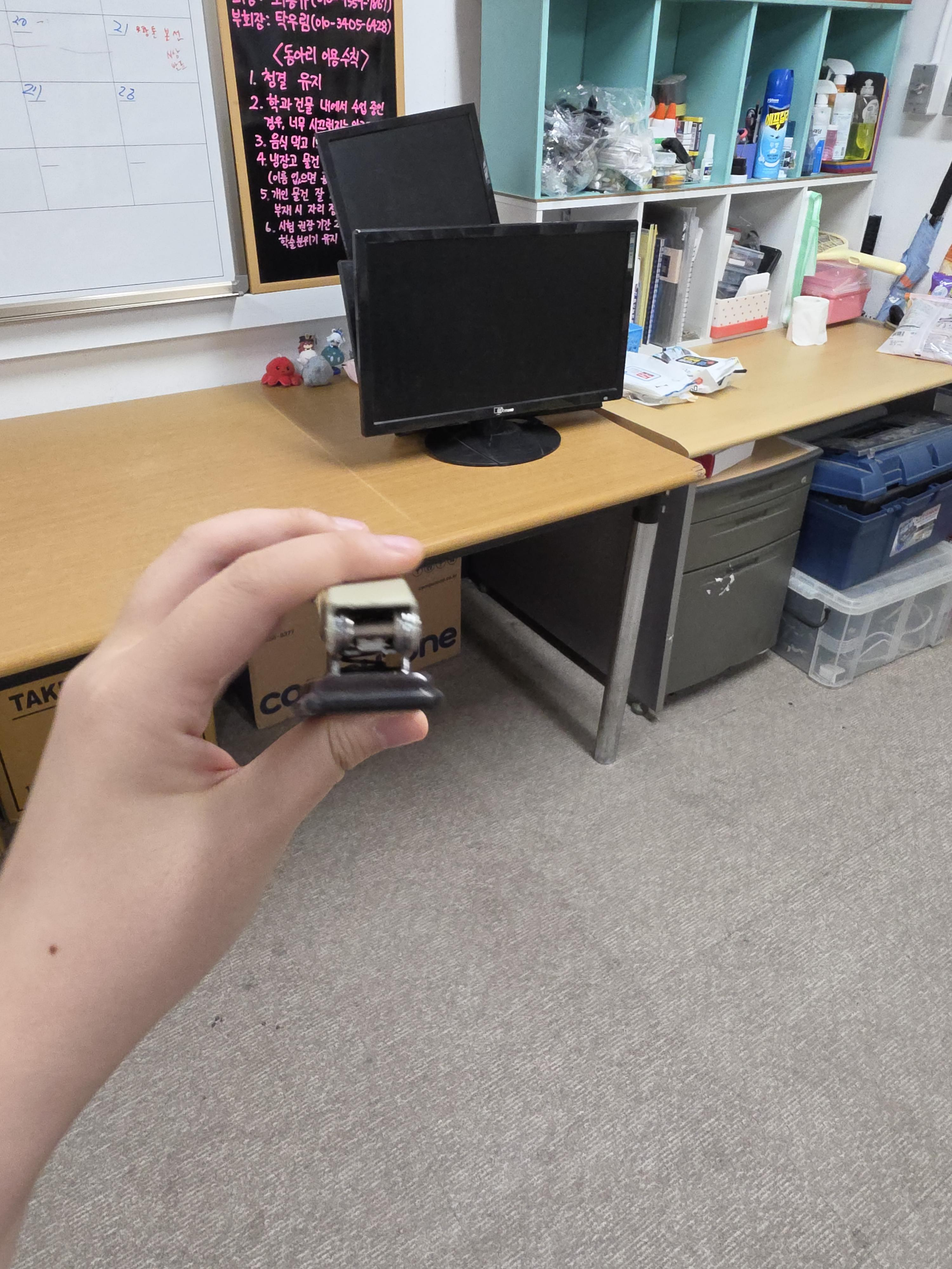stapler: (289, 577, 444, 718)
tissue: (791, 295, 830, 346)
